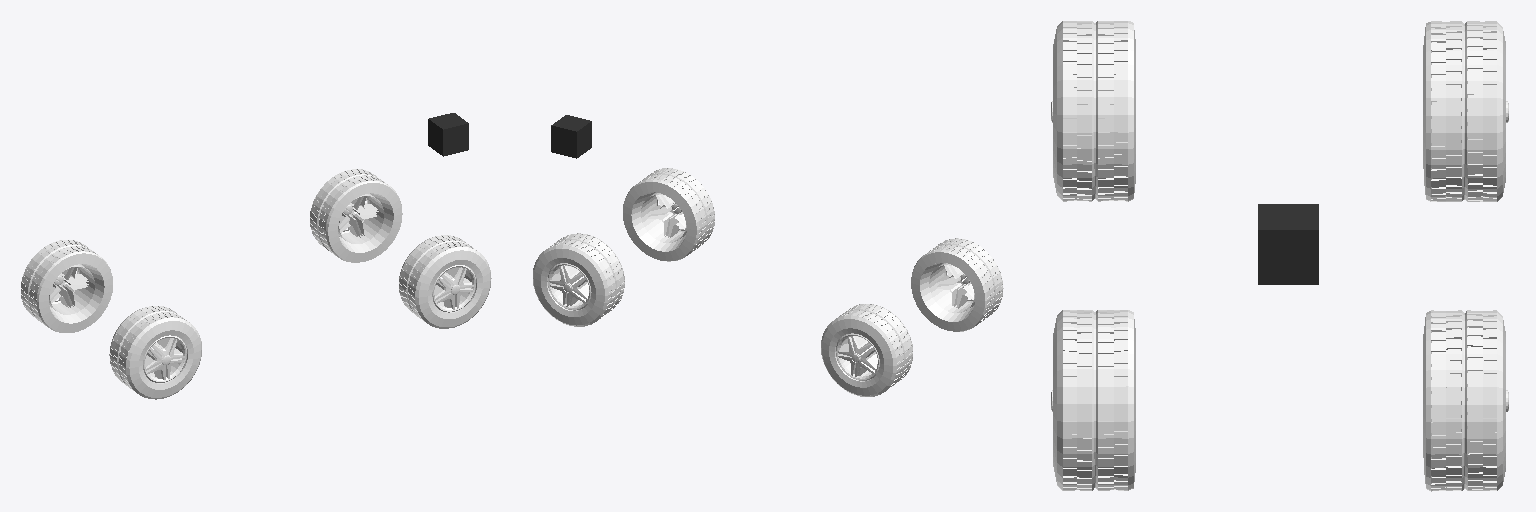
robot.urdf — autonomous_car:
<?xml version="1.0"?>
<robot name="autonomous_car">
  
  <!-- Base Link (Chassis) -->
  <link name="base_link">
    <inertial>
      <mass value="5.0"/>
      <origin xyz="0 0 0"/>
      <inertia ixx="0.1" ixy="0.0" ixz="0.0" iyy="0.1" iyz="0.0" izz="0.1"/>
    </inertial>
   <visual>
      <geometry>
        <mesh filename="car.obj" scale="0.05 0.05 0.05"/>
      </geometry>
      <material name="gray">
        <color rgba="0.5 0.5 0.5 1"/>
      </material>
    </visual>
    <collision>
      <geometry>
        <box size="0.8 0.3 0.15"/>
      </geometry>
    </collision>
  </link>
  
  <!-- Front Left Wheel -->  
  <link name="front_left_wheel">
    <visual>
      <geometry>
        <mesh filename="wl.obj" scale="0.05 0.05 0.05"/>
      </geometry>
      <material name="white">
        <color rgba="255 255 255 255"/>
      </material>
    </visual>
    <collision>
      <geometry>
        <cylinder radius="0.06" length="0.06"/>
      </geometry>
    </collision>
  </link>
  <!-- 將車輪旋轉 90 度，使得輪子的幾何外觀從原本「橫放」改為沿 Y 軸排列，並設定關節旋轉軸沿 Y 軸，讓車輪滾動產生的推進方向為 X 軸 -->
  <joint name="front_left_wheel_joint" type="continuous">
    <parent link="base_link"/>
    <child link="front_left_wheel"/>
    <origin xyz="0.28 0.15 -0.11" rpy="-1.57 0 0"/>
    <axis xyz="0 0 1"/>
  </joint>
  
  <!-- Front Right Wheel -->
  <link name="front_right_wheel">
   <visual>
      <geometry>
        <mesh filename="wlr.obj" scale="0.05 0.05 0.05"/>
      </geometry>
      <material name="white">
        <color rgba="255 255 255 255"/>
      </material>
    </visual>
    <collision>
      <geometry>
        <cylinder radius="0.06" length="0.06"/>
      </geometry>
    </collision>
  </link>
  <joint name="front_right_wheel_joint" type="continuous">
    <parent link="base_link"/>
    <child link="front_right_wheel"/>
    <origin xyz="0.28 -0.15 -0.11" rpy="-1.57 0 0"/>
    <axis xyz="0 0 1"/>
  </joint>
  
  <!-- Rear Left Wheel -->
  <link name="rear_left_wheel">
    <visual>
      <geometry>
        <mesh filename="wl.obj" scale="0.05 0.05 0.05"/>
      </geometry>
      <material name="white">
        <color rgba="255 255 255 255"/>
      </material>
    </visual>
    <collision>
      <geometry>
        <cylinder radius="0.06" length="0.06"/>
      </geometry>
    </collision>
  </link>
  <joint name="rear_left_wheel_joint" type="continuous">
    <parent link="base_link"/>
    <child link="rear_left_wheel"/>
    <origin xyz="-0.28 0.15 -0.11" rpy="-1.57 0 0"/>
    <axis xyz="0 0 1"/>
  </joint>
  
  <!-- Rear Right Wheel -->
  <link name="rear_right_wheel">
    <visual>
      <geometry>
        <mesh filename="wlr.obj" scale="0.05 0.05 0.05"/>
      </geometry>
      <material name="white">
        <color rgba="255 255 255 255"/>
      </material>
    </visual>
    <collision>
      <geometry>
        <cylinder radius="0.06" length="0.06"/>
      </geometry>
    </collision>
  </link>
  <joint name="rear_right_wheel_joint" type="continuous">
    <parent link="base_link"/>
    <child link="rear_right_wheel"/>
    <origin xyz="-0.28 -0.15 -0.11" rpy="-1.57 0 0"/>
    <axis xyz="0 0 1"/>
  </joint>

  <!-- Camera Link -->
  <link name="camera_link">
    <visual>
      <geometry>
        <box size="0.05 0.05 0.05"/>
      </geometry>
      <material name="grey">
        <color rgba="0.25 0.25 0.25 1.0"/>
      </material>
    </visual>
    <collision>
      <geometry>
        <box size="0.05 0.05 0.05"/>
      </geometry>
    </collision>
  </link>
  <joint name="camera_joint" type="fixed">
    <parent link="base_link"/>
    <child link="camera_link"/>
    <origin xyz="0.375 0 0.075"  rpy="0 0 0"/>
  </joint>
</robot>

--- Render facts (derived) ---
The picture shows the robot from 3 angles, left to right: view 1: azimuth 30°, elevation 25°; view 2: azimuth 150°, elevation 25°; view 3: azimuth 270°, elevation 25°; orthographic projection.
Robot: autonomous_car — 6 links, 5 joints (4 continuous, 1 fixed); root link base_link; default pose: every joint at zero.
Links seen in each view (by area): view 1: front_right_wheel, front_left_wheel, rear_right_wheel, rear_left_wheel, camera_link; view 2: rear_right_wheel, front_left_wheel, rear_left_wheel, front_right_wheel, camera_link; view 3: rear_left_wheel, front_right_wheel, front_left_wheel, rear_right_wheel, camera_link.
Link boxes in pixels (x1,y1,x2,y2): front_right_wheel: [399, 235, 491, 328]; front_left_wheel: [310, 169, 402, 262]; rear_right_wheel: [109, 306, 201, 399]; rear_left_wheel: [21, 240, 112, 332]; camera_link: [428, 113, 468, 156]; rear_right_wheel: [911, 238, 1003, 331]; front_left_wheel: [533, 233, 624, 326]; rear_left_wheel: [821, 304, 912, 396]; front_right_wheel: [623, 168, 714, 261]; camera_link: [551, 115, 591, 158]; rear_left_wheel: [1423, 21, 1508, 201]; front_right_wheel: [1051, 310, 1135, 490]; front_left_wheel: [1423, 310, 1508, 491]; rear_right_wheel: [1051, 21, 1135, 201]; camera_link: [1258, 204, 1318, 284].
Size in the robot's own frame: 0.757 by 0.3754 by 0.2853 metres.
Meshes: 3 distinct files referenced, 4 mesh visuals loaded (2 OBJ); not drawn: 1 (reference not matched to a file when rendering).
